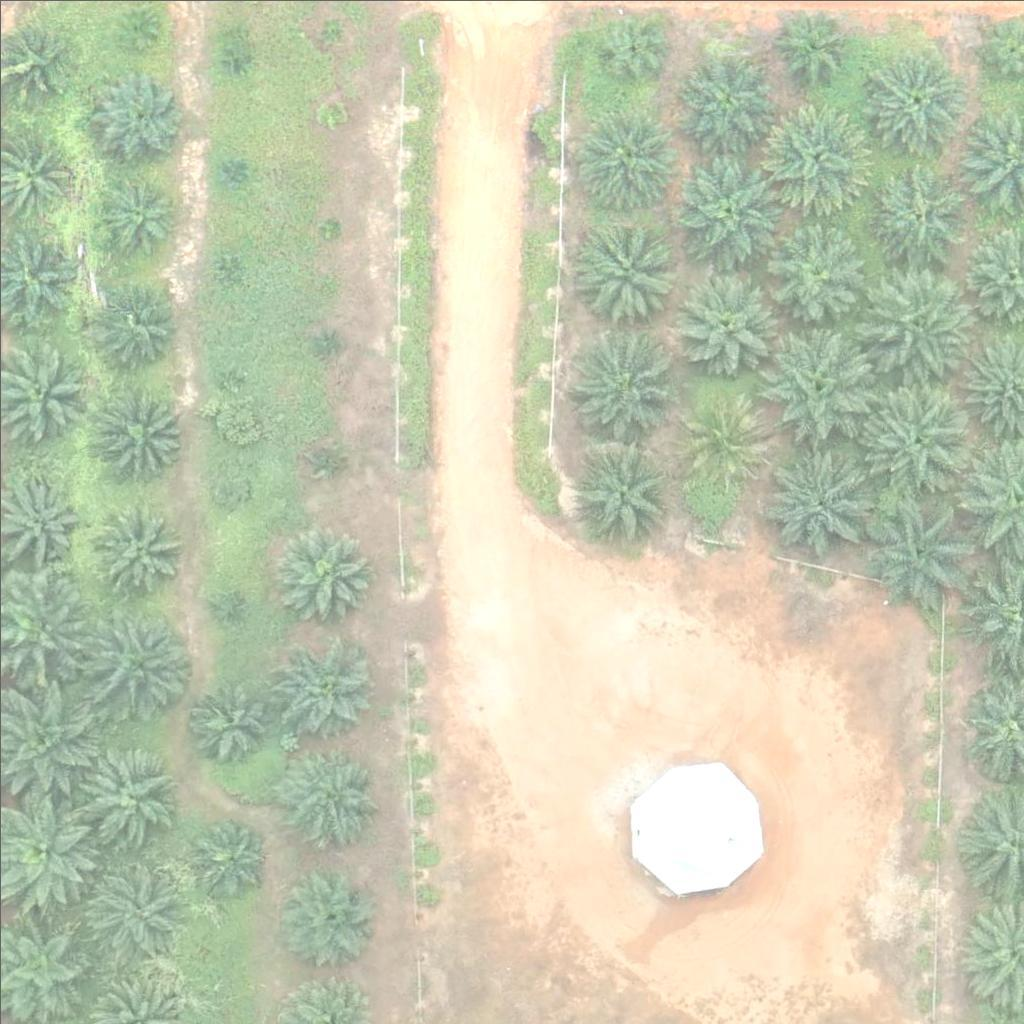Kelapa_Sawit: (81, 606, 194, 720), (757, 443, 870, 557), (759, 327, 872, 441), (859, 492, 972, 606), (670, 155, 783, 268), (860, 386, 972, 500), (758, 94, 870, 207), (82, 58, 194, 171), (563, 329, 675, 442), (863, 262, 975, 375), (281, 747, 381, 848), (273, 636, 373, 737), (275, 528, 375, 629), (573, 441, 673, 542), (676, 49, 776, 150), (867, 158, 967, 259), (863, 51, 963, 152), (276, 867, 376, 967), (78, 855, 178, 955), (76, 742, 176, 842), (578, 222, 678, 322), (573, 108, 673, 208), (672, 269, 772, 369), (766, 219, 866, 319), (88, 171, 176, 260), (91, 280, 179, 368), (679, 391, 767, 479), (91, 508, 178, 596), (98, 386, 185, 474), (185, 679, 272, 767), (592, 10, 667, 86), (190, 819, 265, 895), (774, 5, 849, 80), (209, 466, 247, 504), (116, 11, 154, 49), (209, 594, 234, 619), (213, 364, 238, 389), (219, 248, 244, 273), (313, 444, 338, 469), (313, 331, 338, 356), (317, 213, 342, 238), (321, 101, 346, 126), (318, 17, 343, 42), (218, 159, 243, 184), (225, 49, 250, 74)
